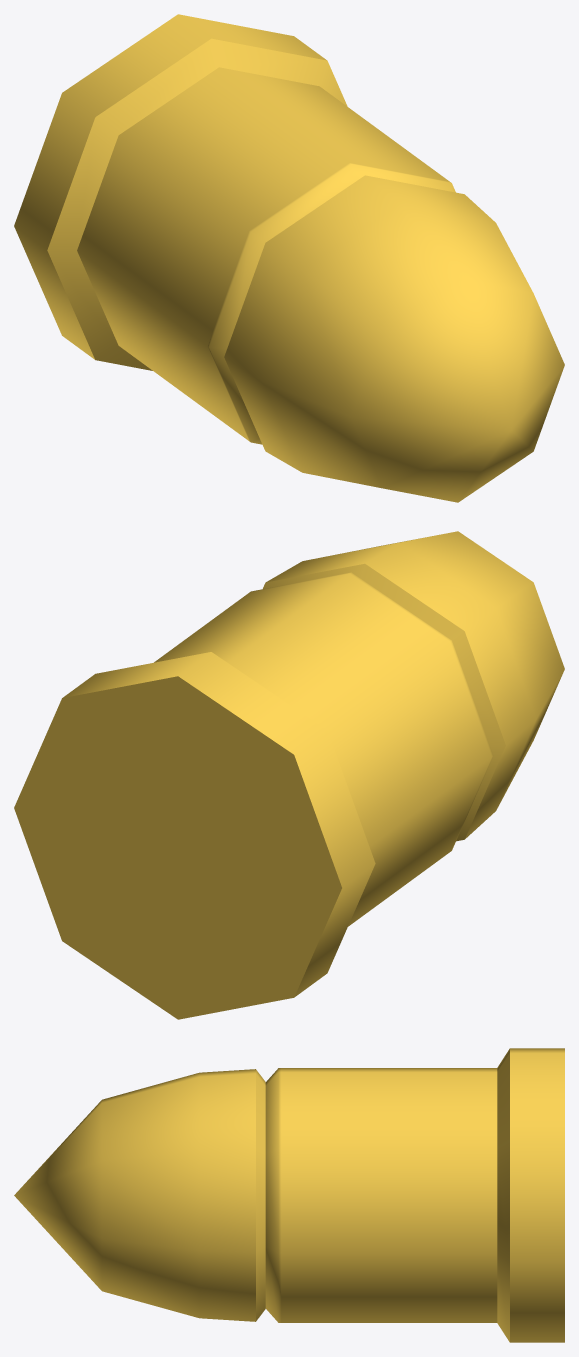
File: bullet.gltf
3 views of the same model, one above another, from view 1: azimuth 30°, elevation 25°; view 2: azimuth 150°, elevation 25°; view 3: azimuth 270°, elevation 25° (orthographic). The views are drawn at different scales.
Visible parts, largest first — view 1: bullet; view 2: bullet; view 3: bullet.
Boxes of the visible parts, x1,y1,x2,y2 form: bullet: (14, 14, 564, 502); bullet: (14, 531, 564, 1019); bullet: (14, 1048, 564, 1342).
Bounding box in the file's own units: 0.2987 × 0.2987 × 0.5253.
